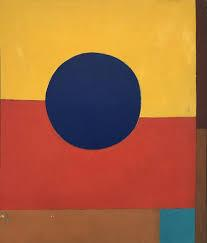blue_circle: (40, 46, 157, 159)
